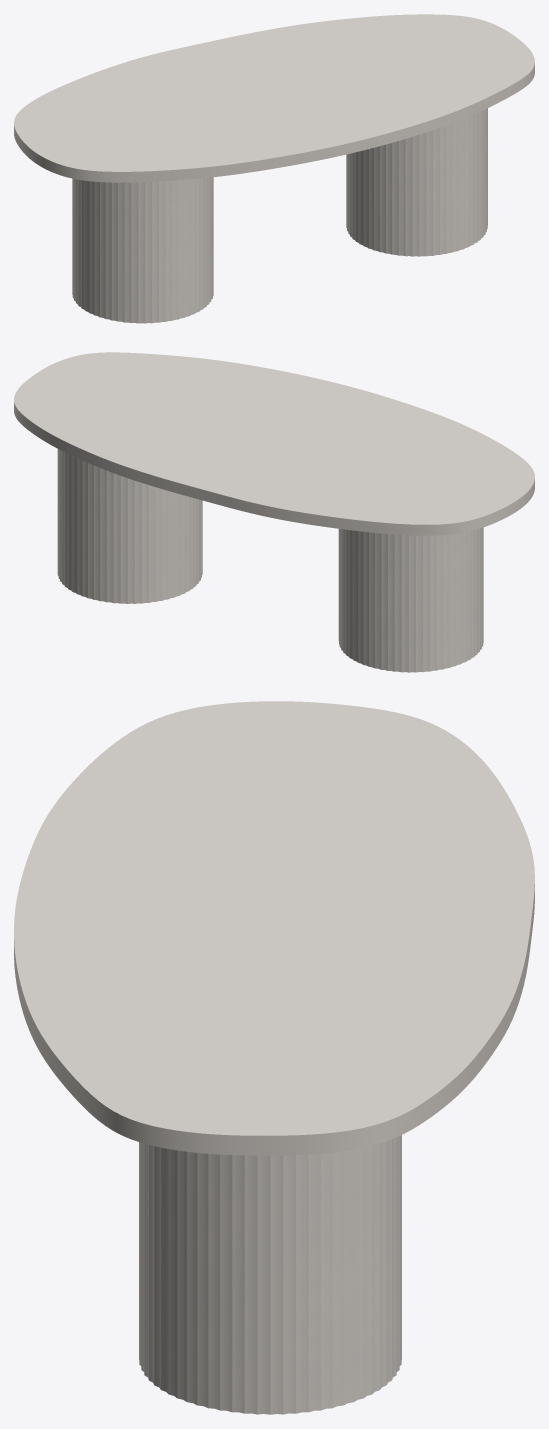
File: pearlwhite_danish_standard_ripplesecond.glb
The picture shows the model from 3 angles, top to bottom: view 1: azimuth 30°, elevation 25°; view 2: azimuth 150°, elevation 25°; view 3: azimuth 270°, elevation 25°; orthographic projection. The views are drawn at different scales.
Visible parts, largest first — view 1: standard_danish, ripplesecond; view 2: standard_danish, ripplesecond; view 3: standard_danish, ripplesecond.
Boxes of the visible parts, box(x1,y1,x2,y2) form: standard_danish: box(14, 14, 534, 182); ripplesecond: box(72, 108, 487, 323); standard_danish: box(14, 352, 534, 535); ripplesecond: box(57, 449, 483, 672); standard_danish: box(14, 701, 534, 1155); ripplesecond: box(139, 1135, 401, 1414).
Size of the model in its own units: 7.5 by 2.51 by 3.8.
1 material, 1 textured.
